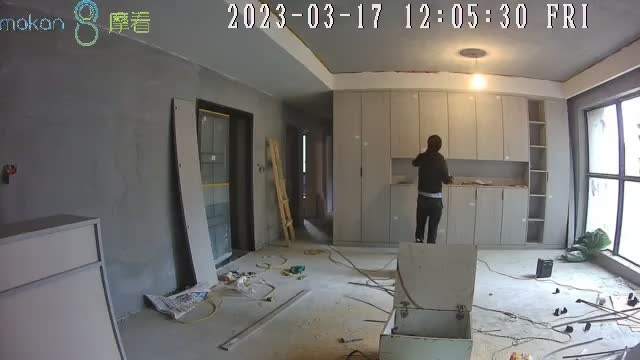people: (412, 135, 452, 243)
window: (583, 92, 640, 268)
